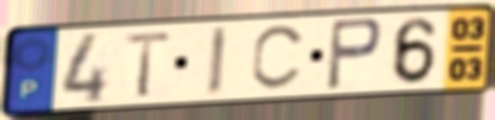4: (58, 30, 113, 106)
6: (391, 14, 442, 87)
C: (248, 22, 309, 94)
I: (204, 23, 231, 100)
P: (323, 15, 386, 93)
T: (121, 29, 176, 101)
